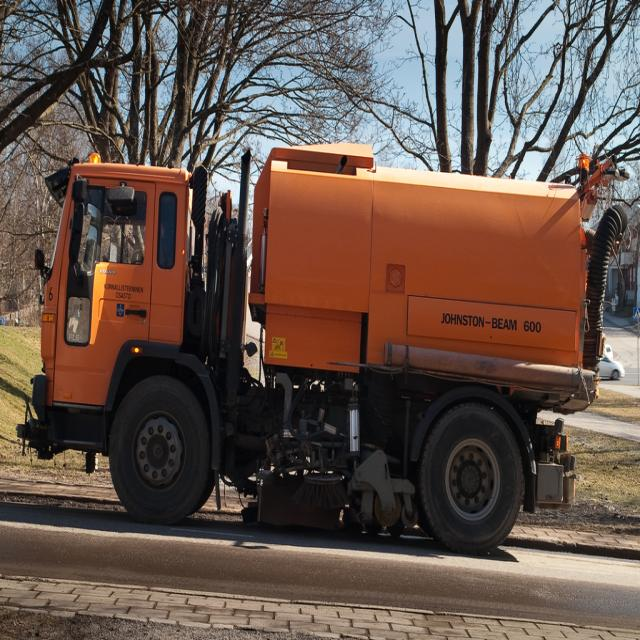Heavy Duty Truck: (18, 129, 611, 570)
